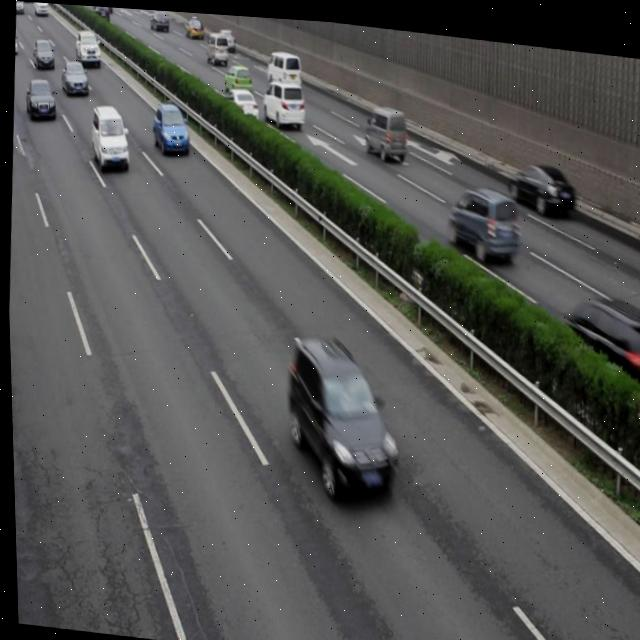car: (279, 328, 401, 502), (561, 285, 640, 383), (445, 179, 519, 257), (507, 153, 575, 212), (88, 101, 131, 171), (261, 76, 305, 126), (153, 99, 190, 154), (24, 78, 57, 121), (224, 83, 259, 117), (60, 59, 89, 93), (76, 28, 103, 64), (223, 59, 252, 89), (33, 37, 55, 68), (219, 24, 235, 48), (185, 16, 205, 35)
truck: (362, 100, 406, 156), (265, 45, 302, 83), (205, 29, 227, 63)
